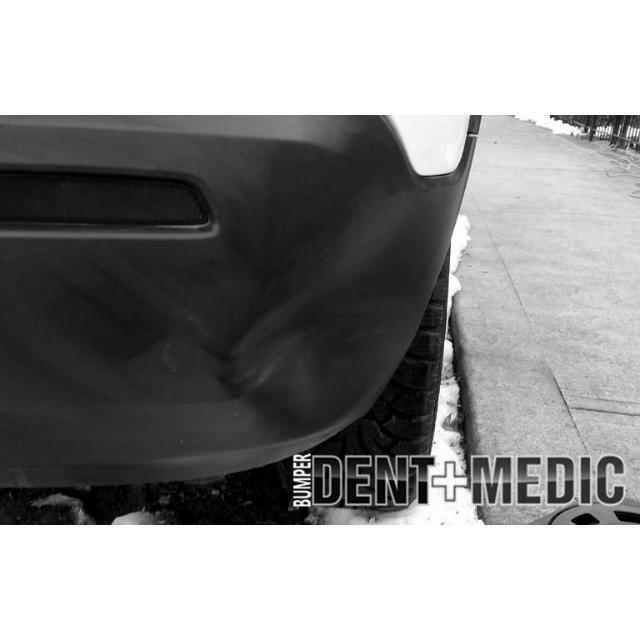rear-bumper-dent: (9, 154, 441, 460)
